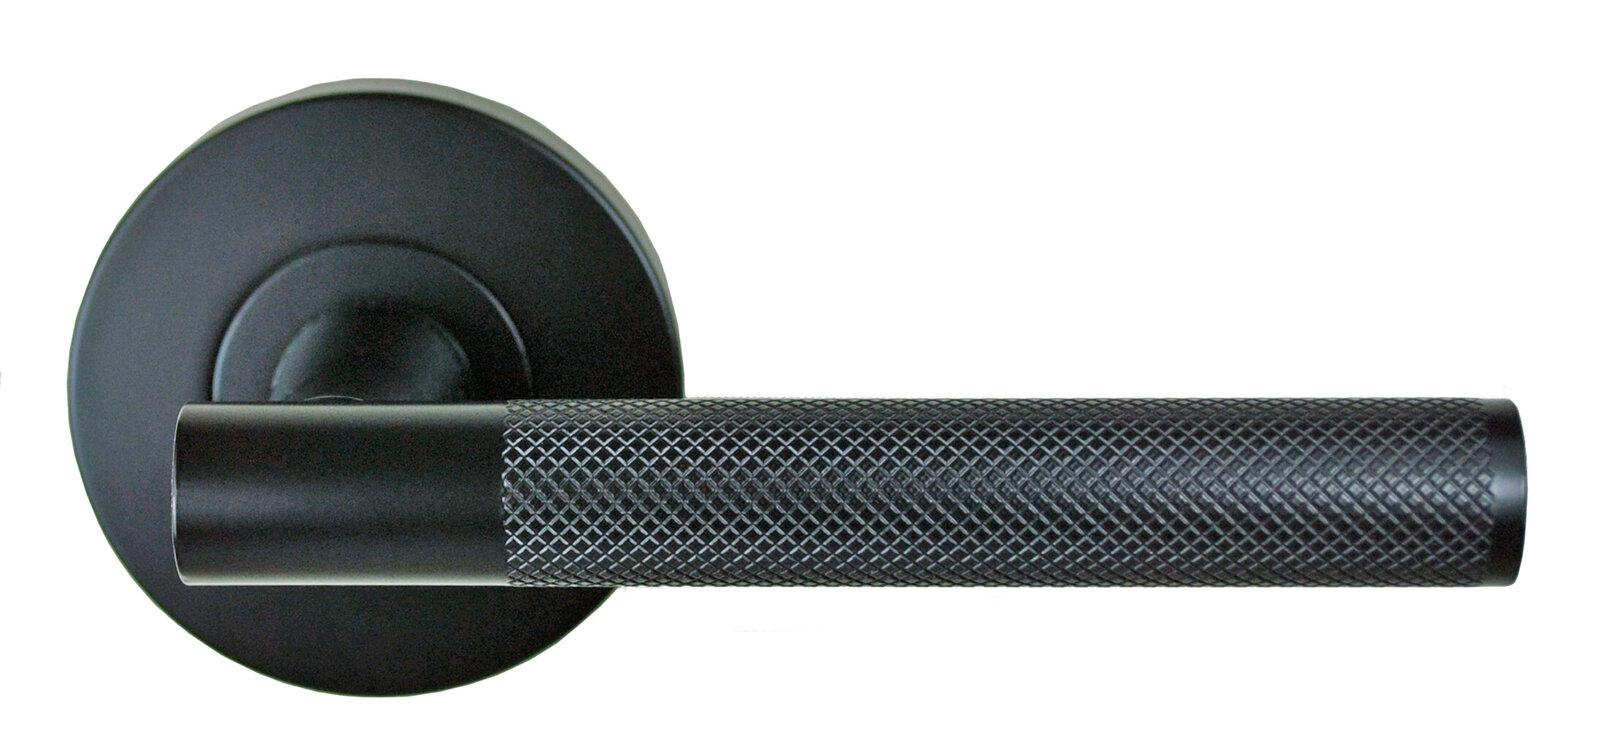doorhandle: (144, 276, 1566, 656)
